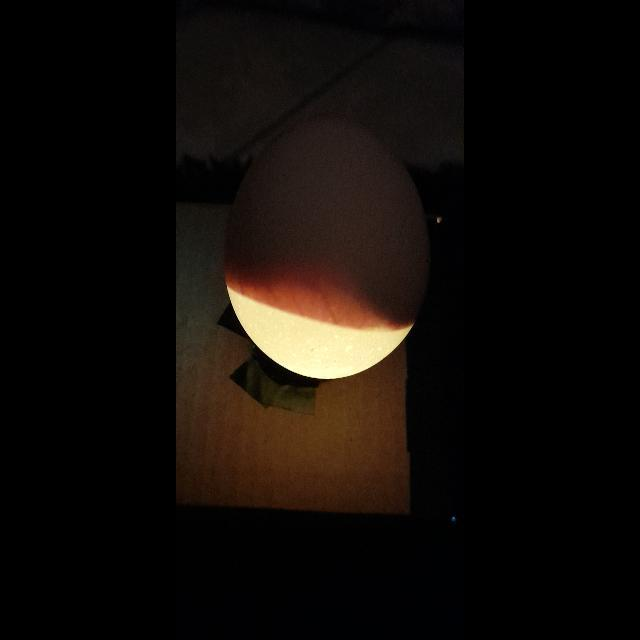Fertile: (214, 119, 432, 384)
